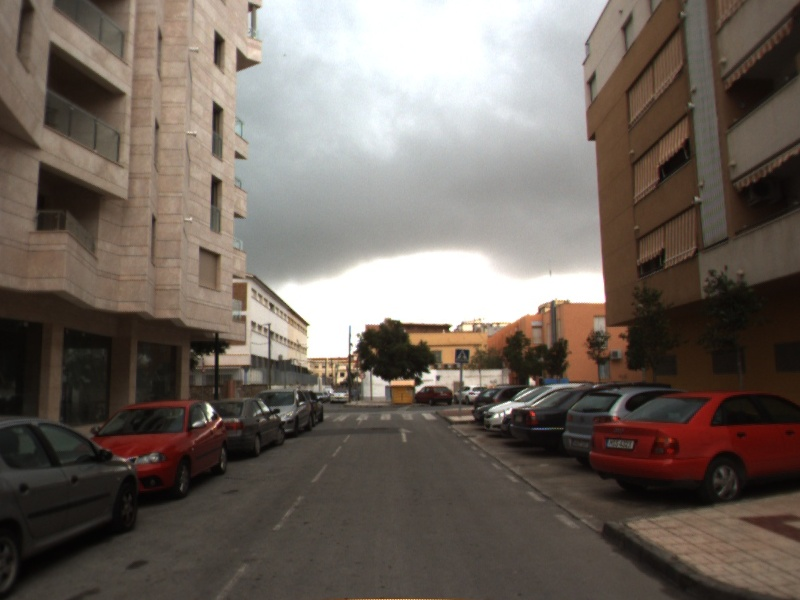STRAIGHT: (396, 425, 416, 444)
